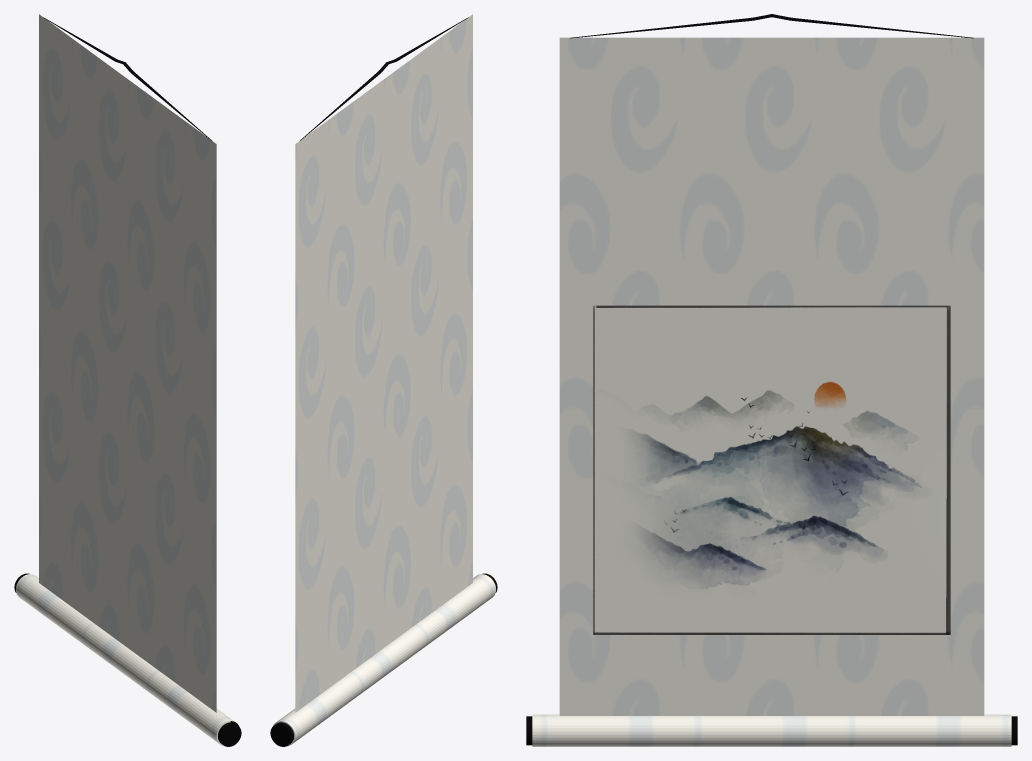
The model's file is scroll.fbx.
The picture shows the model from 3 angles, left to right: view 1: azimuth 30°, elevation 25°; view 2: azimuth 150°, elevation 25°; view 3: azimuth 270°, elevation 25°; orthographic projection. The views are drawn at different scales.
Parts seen in each view (by area): view 1: Scroll, ScrollBottom, String; view 2: Scroll, ScrollBottom, String; view 3: Scroll, Picture, ScrollBottom, String.
Part boxes in pixels (x1,y1,x2,y2): Scroll: (39,14,216,712); ScrollBottom: (14,573,241,746); String: (43,17,211,140); Scroll: (295,14,472,712); ScrollBottom: (270,573,497,746); String: (300,17,468,140); Scroll: (559,37,984,715); Picture: (593,305,950,634); ScrollBottom: (526,714,1017,746); String: (570,14,973,38).
Size of the model in its own units: 26.44 by 656 by 401.
